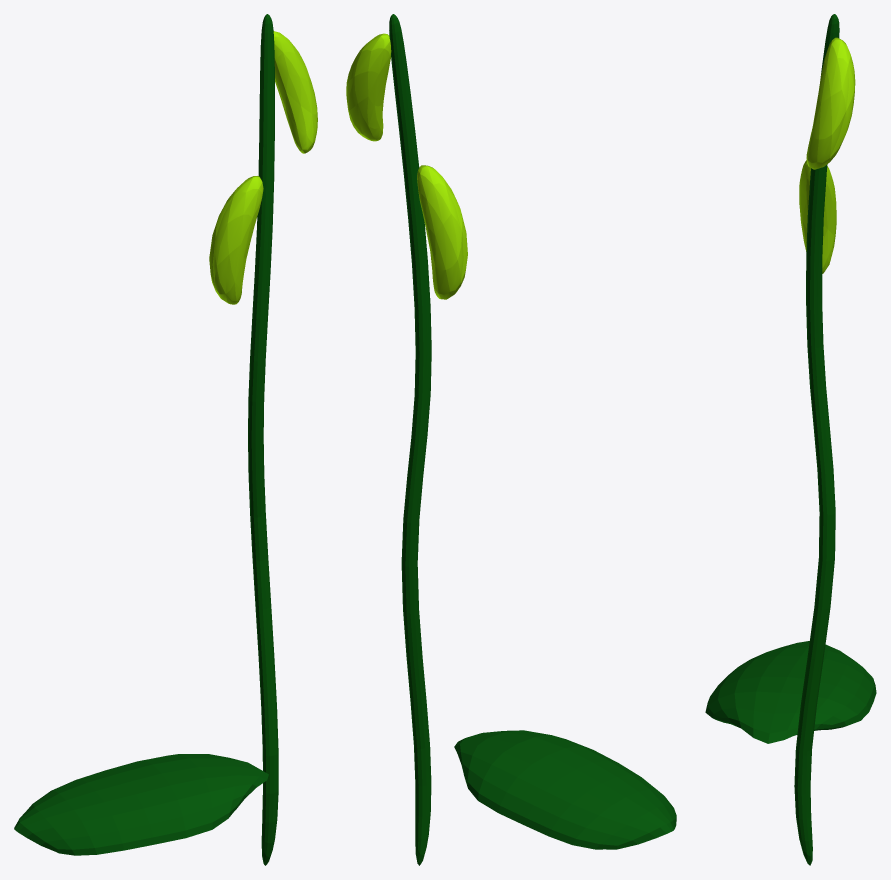
Rendered from LimaBean dying Final.fbx.
The picture shows the model from 3 angles, left to right: view 1: azimuth 30°, elevation 25°; view 2: azimuth 150°, elevation 25°; view 3: azimuth 270°, elevation 25°; orthographic projection. The views are drawn at different scales.
Parts seen in each view (by area): view 1: Plane.006, Cylinder.001, Icosphere.001, Icosphere; view 2: Plane.006, Cylinder.001, Icosphere.001, Icosphere; view 3: Cylinder.001, Plane.006, Icosphere, Icosphere.001.
Boxes of the visible parts, x1=… form: Plane.006: x1=14, y1=754, x2=268, y2=855; Cylinder.001: x1=248, y1=14, x2=278, y2=865; Icosphere.001: x1=209, y1=176, x2=263, y2=304; Icosphere: x1=273, y1=31, x2=317, y2=153; Plane.006: x1=454, y1=730, x2=676, y2=849; Cylinder.001: x1=389, y1=14, x2=431, y2=865; Icosphere.001: x1=417, y1=165, x2=467, y2=299; Icosphere: x1=346, y1=33, x2=391, y2=141; Cylinder.001: x1=794, y1=14, x2=839, y2=865; Plane.006: x1=705, y1=641, x2=876, y2=743; Icosphere: x1=806, y1=37, x2=855, y2=169; Icosphere.001: x1=799, y1=160, x2=836, y2=273.
Size of the model in its own units: 393 by 1021 by 184.
